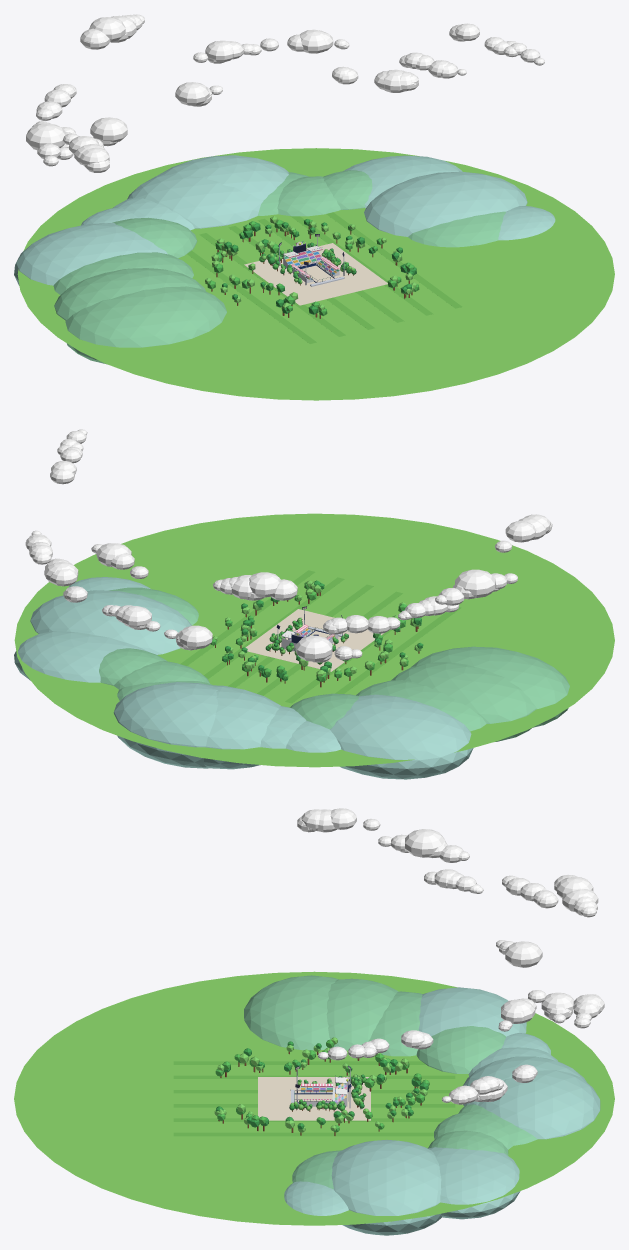
The model's file is stadium.glb.
The picture shows the model from 3 angles, top to bottom: view 1: azimuth 30°, elevation 25°; view 2: azimuth 150°, elevation 25°; view 3: azimuth 270°, elevation 25°; orthographic projection.
Visible parts, largest first — view 1: lawn, hill_far, hill, cloud, lawn_dark, concourse, leaf_light, leaf, leaf_dark; view 2: lawn, hill_far, hill, cloud, lawn_dark, concourse, leaf_light, leaf, leaf_dark; view 3: lawn, hill_far, hill, cloud, lawn_dark, concourse, leaf_light, leaf, leaf_dark.
Boxes of the visible parts, bbox=[...] form: lawn: bbox=[17, 148, 614, 400]; hill_far: bbox=[14, 155, 555, 285]; hill: bbox=[53, 170, 505, 364]; cloud: bbox=[26, 14, 544, 172]; lawn_dark: bbox=[187, 212, 462, 343]; concourse: bbox=[244, 243, 387, 305]; leaf_light: bbox=[205, 216, 416, 311]; leaf: bbox=[207, 219, 419, 315]; leaf_dark: bbox=[222, 219, 416, 314]; lawn: bbox=[14, 513, 614, 767]; hill_far: bbox=[14, 577, 473, 779]; hill: bbox=[99, 587, 569, 741]; cloud: bbox=[25, 429, 552, 662]; lawn_dark: bbox=[180, 570, 461, 703]; concourse: bbox=[245, 609, 383, 671]; leaf_light: bbox=[212, 580, 421, 676]; leaf: bbox=[210, 582, 421, 681]; leaf_dark: bbox=[222, 580, 423, 680]; lawn: bbox=[14, 971, 614, 1225]; hill_far: bbox=[284, 987, 600, 1235]; hill: bbox=[244, 975, 537, 1189]; cloud: bbox=[297, 808, 604, 1104]; lawn_dark: bbox=[173, 1061, 455, 1136]; concourse: bbox=[258, 1077, 370, 1120]; leaf_light: bbox=[214, 1037, 427, 1132]; leaf: bbox=[215, 1039, 429, 1132]; leaf_dark: bbox=[216, 1041, 428, 1129].
Bounding box in the file's own units: 640 × 258 × 640.
